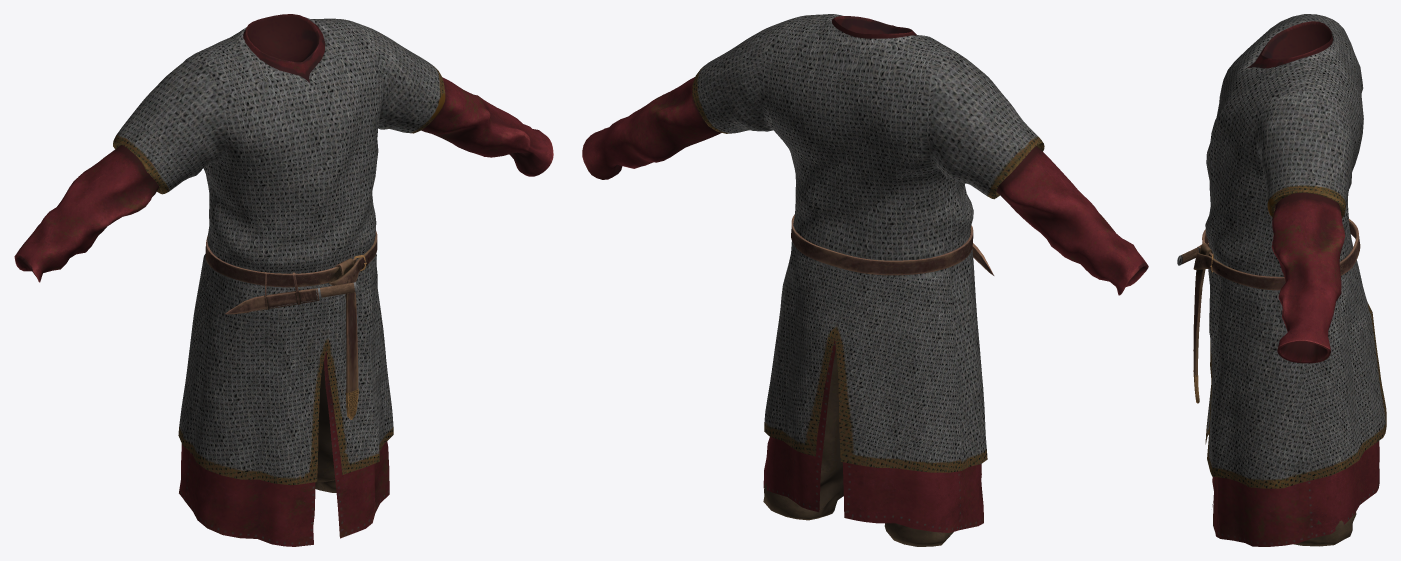
The model's file is cts_rohan_armor1.fbx.
The picture shows the model from 3 angles, left to right: view 1: azimuth 30°, elevation 25°; view 2: azimuth 150°, elevation 25°; view 3: azimuth 270°, elevation 25°; orthographic projection. The views are drawn at different scales.
Visible parts, largest first — view 1: cts_rohan_armor1; view 2: cts_rohan_armor1; view 3: cts_rohan_armor1.
Part boxes in pixels (x1=…): cts_rohan_armor1: x1=14, y1=14, x2=553, y2=546; cts_rohan_armor1: x1=582, y1=14, x2=1148, y2=546; cts_rohan_armor1: x1=1177, y1=14, x2=1386, y2=546.
Bounding box in the file's own units: 1.36 × 0.4672 × 1.19.
Materials: 1 (1 with a texture image).
